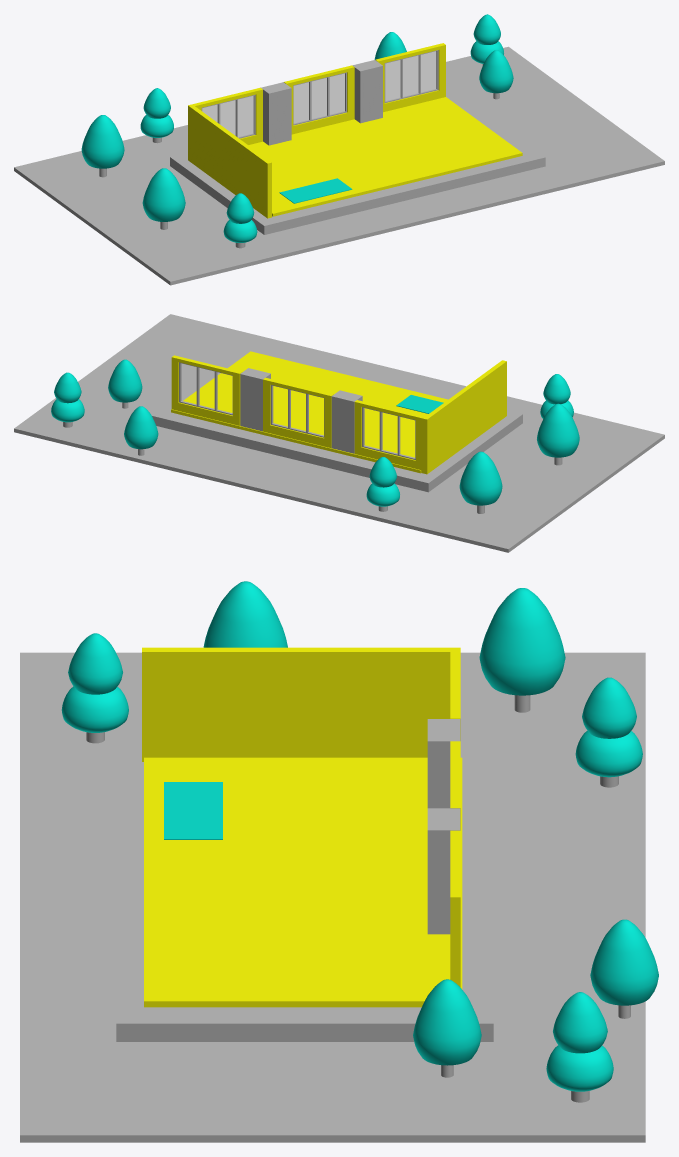
The model's file is gym.glb.
The picture shows the model from 3 angles, top to bottom: view 1: azimuth 30°, elevation 25°; view 2: azimuth 150°, elevation 25°; view 3: azimuth 270°, elevation 25°; orthographic projection. The views are drawn at different scales.
Parts seen in each view (by area): view 1: Box043, Box001, Box044, Box046, Plane003, Plane002, Sphere001, Sphere007, Box055, Box104, Box102, Box105 (+14 smaller); view 2: Box043, Box001, Box044, Box046, Sphere001, Sphere007, Box105, Box102, Box047, Box055, Box104, Sphere010 (+10 smaller); view 3: Box043, Box001, Box046, Box044, Sphere007, Sphere002, Sphere010, Sphere001, Box010, Box104, Sphere003, Sphere008 (+6 smaller).
Boxes of the visible parts, x1,y1,x2,y2 form: Box043: [14, 46, 664, 285]; Box001: [248, 97, 522, 216]; Box044: [170, 88, 545, 234]; Box046: [188, 104, 271, 218]; Plane003: [385, 51, 436, 100]; Plane002: [293, 73, 344, 123]; Sphere001: [142, 168, 185, 221]; Sphere007: [81, 115, 124, 168]; Box055: [261, 82, 291, 145]; Box104: [352, 60, 382, 123]; Box102: [284, 65, 354, 134]; Box105: [375, 43, 445, 112]; Box043: [14, 314, 664, 552]; Box001: [171, 351, 447, 473]; Box044: [150, 345, 522, 492]; Box046: [422, 360, 506, 474]; Sphere001: [537, 403, 579, 457]; Sphere007: [459, 451, 502, 505]; Box105: [171, 355, 242, 425]; Box102: [263, 377, 333, 447]; Box047: [354, 400, 424, 473]; Box055: [331, 390, 362, 453]; Box104: [240, 368, 270, 431]; Sphere010: [124, 406, 158, 449]; Box043: [20, 652, 645, 1142]; Box001: [144, 757, 462, 1007]; Box046: [142, 647, 460, 761]; Box044: [116, 749, 493, 1041]; Sphere007: [479, 588, 565, 695]; Sphere002: [413, 979, 481, 1065]; Sphere010: [590, 919, 658, 1005]; Sphere001: [203, 581, 287, 647]; Box010: [164, 782, 222, 839]; Box104: [427, 808, 460, 934]; Sphere003: [68, 633, 122, 694]; Sphere008: [582, 677, 636, 738].
Bounding box in the file's own units: 121 × 16 × 67.79.
Materials: 5 (2 with a texture image).
